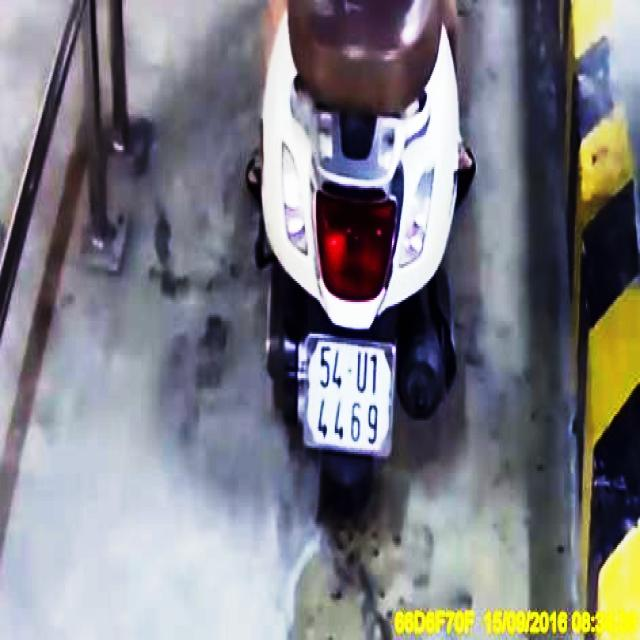license_plate: (304, 342, 396, 462)
